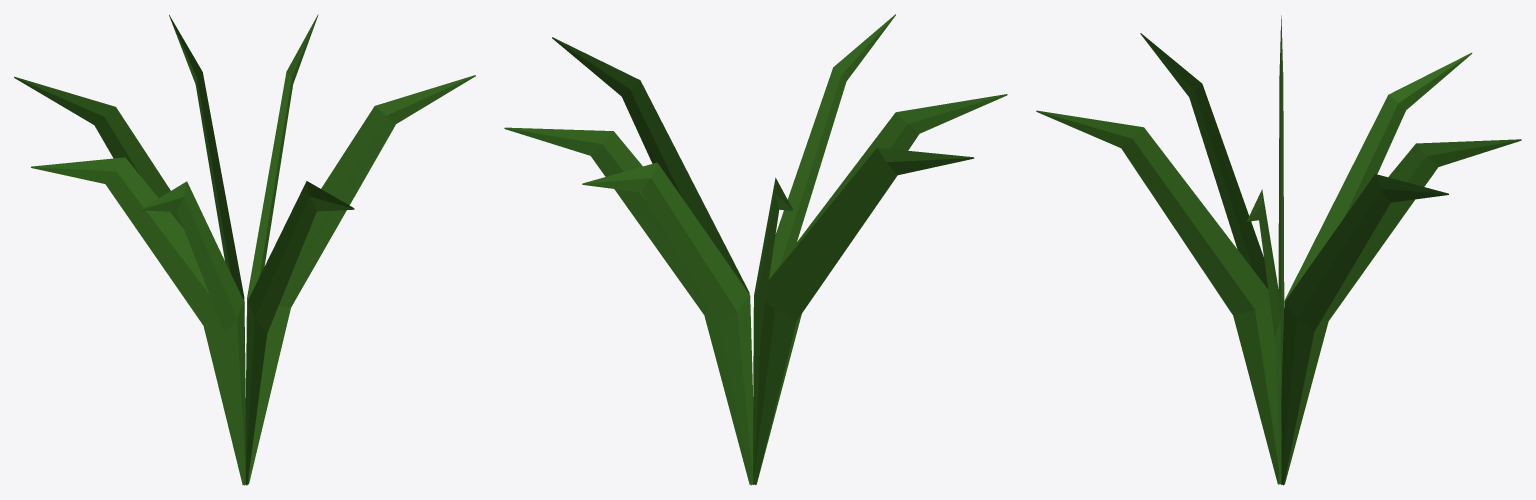
File: N29_Meadow_Grass.fbx
3 renders of one model, left to right at view 1: azimuth 30°, elevation 25°; view 2: azimuth 150°, elevation 25°; view 3: azimuth 270°, elevation 25°, orthographic. The views are drawn at different scales.
Parts seen in each view (by area): view 1: N29_Meadow_Grass; view 2: N29_Meadow_Grass; view 3: N29_Meadow_Grass.
Part boxes in pixels (x1,y1,x2,y2): N29_Meadow_Grass: [14, 14, 475, 485]; N29_Meadow_Grass: [504, 14, 1007, 485]; N29_Meadow_Grass: [1036, 15, 1521, 485].
Size of the model in its own units: 0.5577 by 0.4613 by 0.5536.
1 material, 1 textured.
